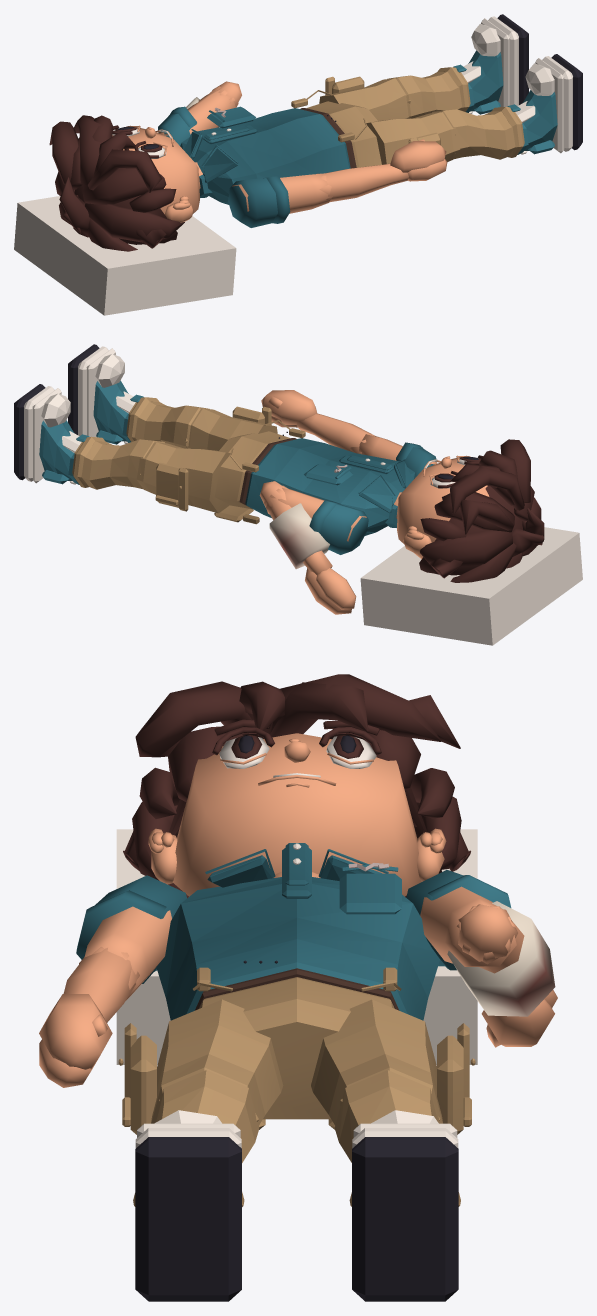
Rendered from npc.shelter-survivor.lying.lod1.glb.
3 renders of one model, top to bottom at view 1: azimuth 30°, elevation 25°; view 2: azimuth 150°, elevation 25°; view 3: azimuth 270°, elevation 25°, orthographic. The views are drawn at different scales.
Visible parts, largest first — view 1: head, restCushion, torso, footR, footL, armR, shinR, hip, legR, shinL, legL, foreArmR (+3 smaller); view 2: head, restCushion, torso, footL, footR, legL, hip, foreArmL, shinL, armL, shinR, legR (+4 smaller); view 3: head, torso, footL, footR, hip, legR, legL, foreArmL, restCushion, armR, armL, handR (+4 smaller).
Boxes of the visible parts, x1,y1,x2,y2 form: head: (49,115,202,251); restCushion: (14,196,236,315); torso: (180,106,350,204); footR: (507,54,582,154); footL: (453,14,528,114); armR: (228,173,332,227); shinR: (432,106,524,159); hip: (291,90,381,168); legR: (366,112,460,181); shinL: (387,67,470,118); legL: (319,76,409,120); foreArmR: (317,163,408,202); head: (394,439,544,582); restCushion: (360,527,582,645); torso: (245,438,416,535); footL: (14,384,89,484); footR: (68,344,143,444); legL: (136,442,230,513); hip: (214,420,305,524); foreArmL: (259,481,332,574); shinL: (72,436,164,489); armL: (266,487,368,554); shinR: (126,397,209,448); legR: (187,406,277,450); head: (123,674,470,898); torso: (156,843,439,1020); footL: (352,1110,458,1301); footR: (135,1110,241,1301); hip: (193,960,401,1129); legR: (118,999,283,1134); legL: (311,999,475,1134); foreArmL: (447,901,555,1016); restCushion: (116,829,477,1064); armR: (76,875,186,1000); armL: (406,870,516,970); handR: (39,994,112,1087).
Size of the model in its own units: 1.81 by 0.5454 by 0.8318.
